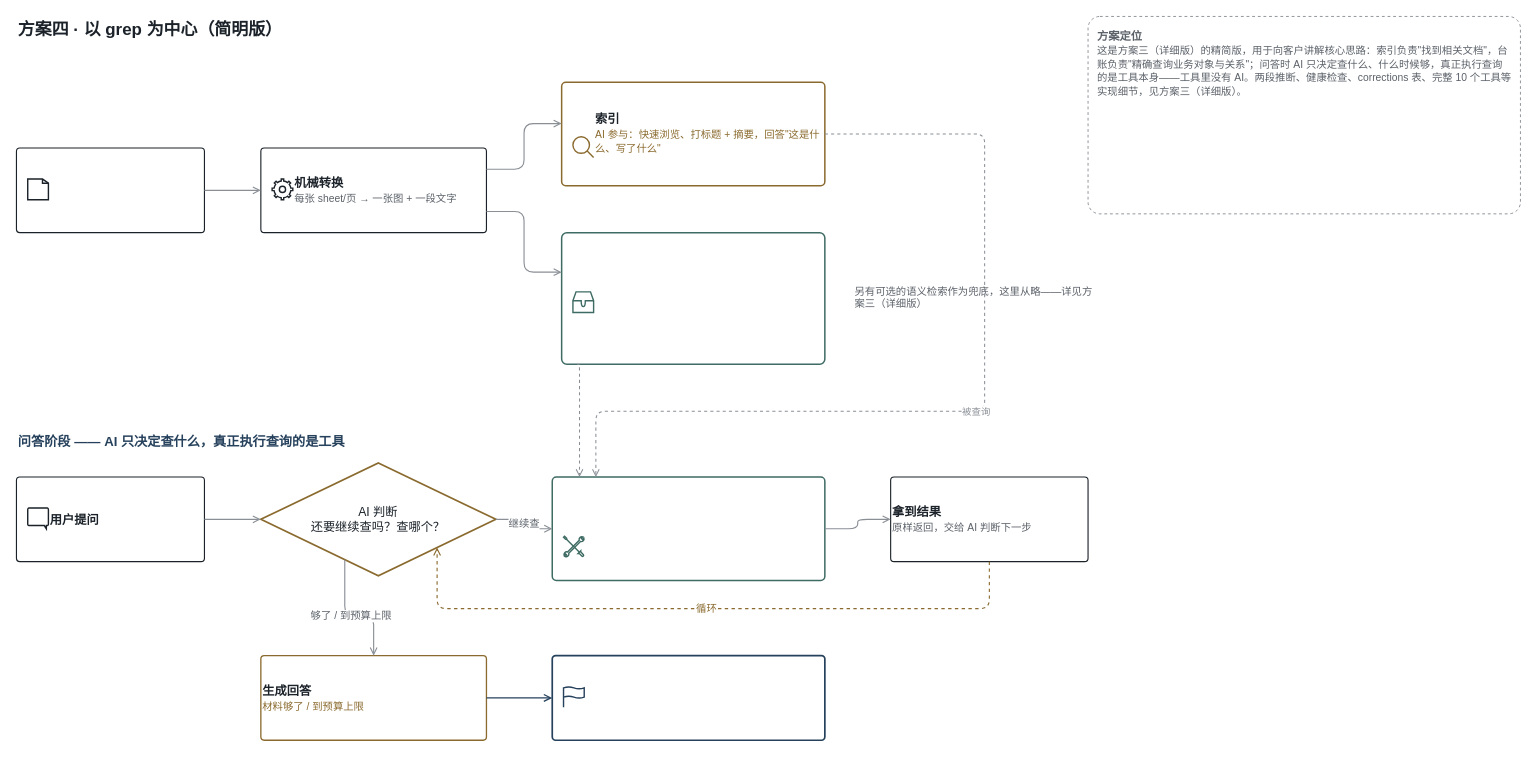
This 1538x758 diagram has some shape labels left out. The shapes that lost their labels are listed below. From the top down, each one's box as (x1, y1, x2, y2) in pixels, then its label:
(15, 147, 205, 233): 原始资产 Excel 设计书等
(560, 231, 825, 365): 台账 机械规则抽取，无 AI 参与：把表 / 字段 / 画面 / 程序抽成清单；关系区分"设计书明写"和"按规则推断"
(551, 476, 825, 581): 工具执行 纯规则查询，没有 AI：全文检索(grep) / 查台账(定义·影响范围) / 语义检索(兜底)
(551, 654, 825, 741): 回答 + 出处 文件 / 行号，方便自行核实
